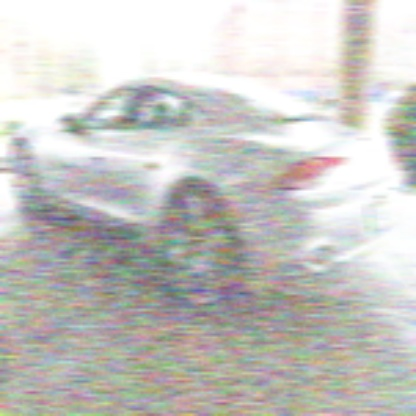Vehicle: (8, 74, 408, 327)
